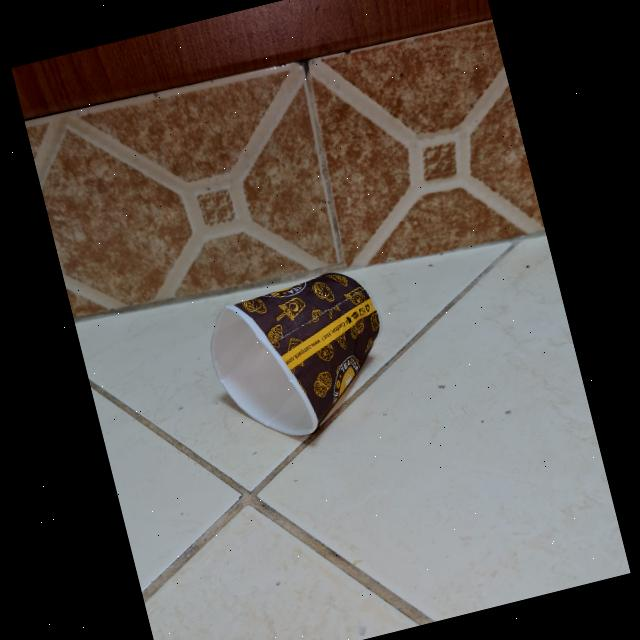trash: (196, 253, 406, 454)
